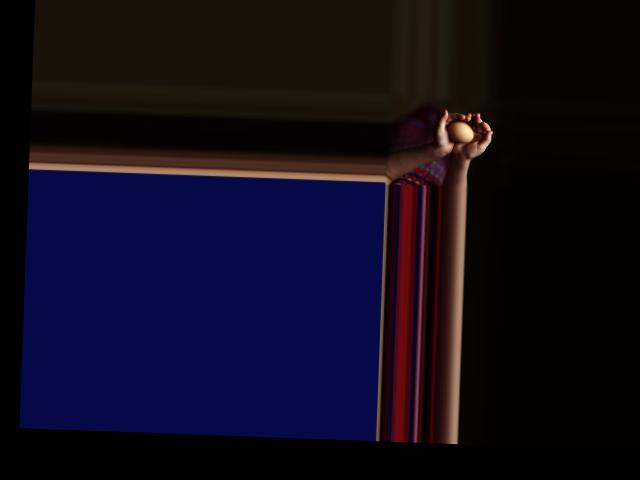egg: (446, 120, 473, 143)
